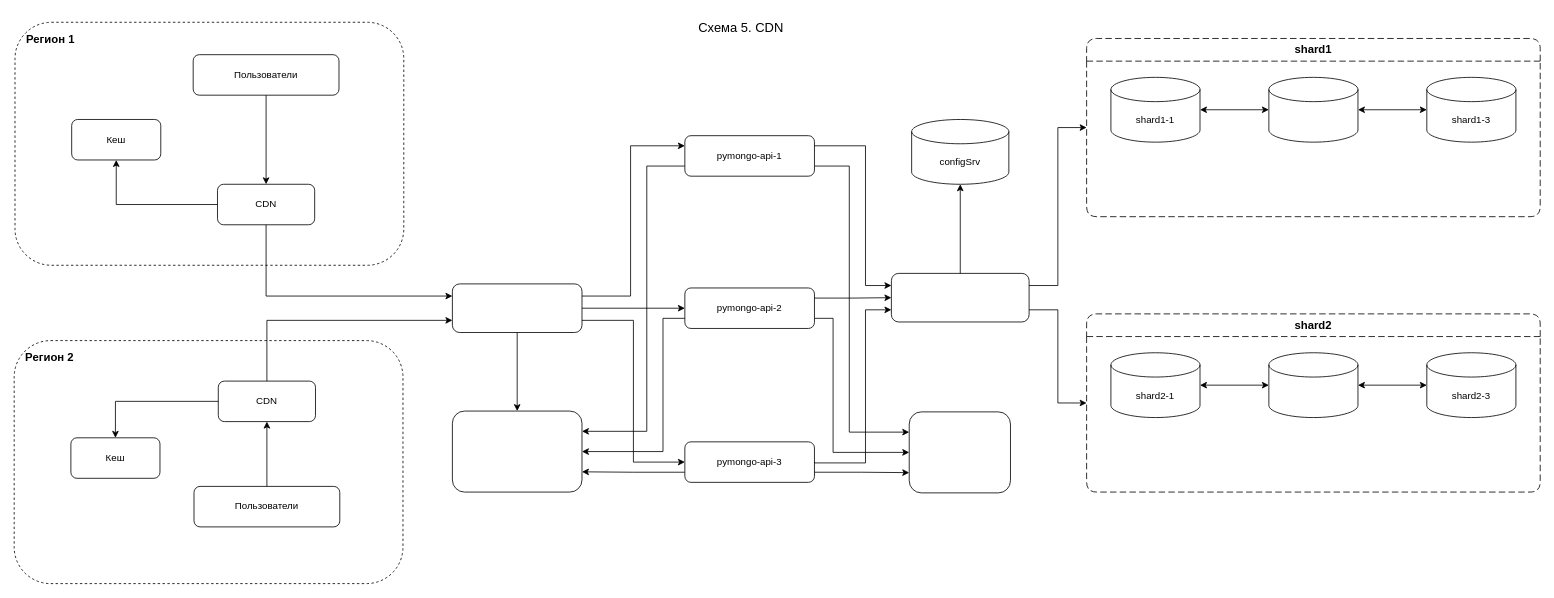
Image size: 1554x598. Some labels were removed from this diagram. The shapes that lost their labels are listed below. From the top down, each one's box as (x1, y1, x2, y2) in pixels, then its label:
(1268, 77, 1358, 142): shard1-2
(452, 283, 582, 333): API Gateway
(891, 273, 1029, 322): mongos_router
(1268, 352, 1358, 418): shard2-2
(452, 410, 582, 492): Consul
(908, 411, 1010, 493): redis
